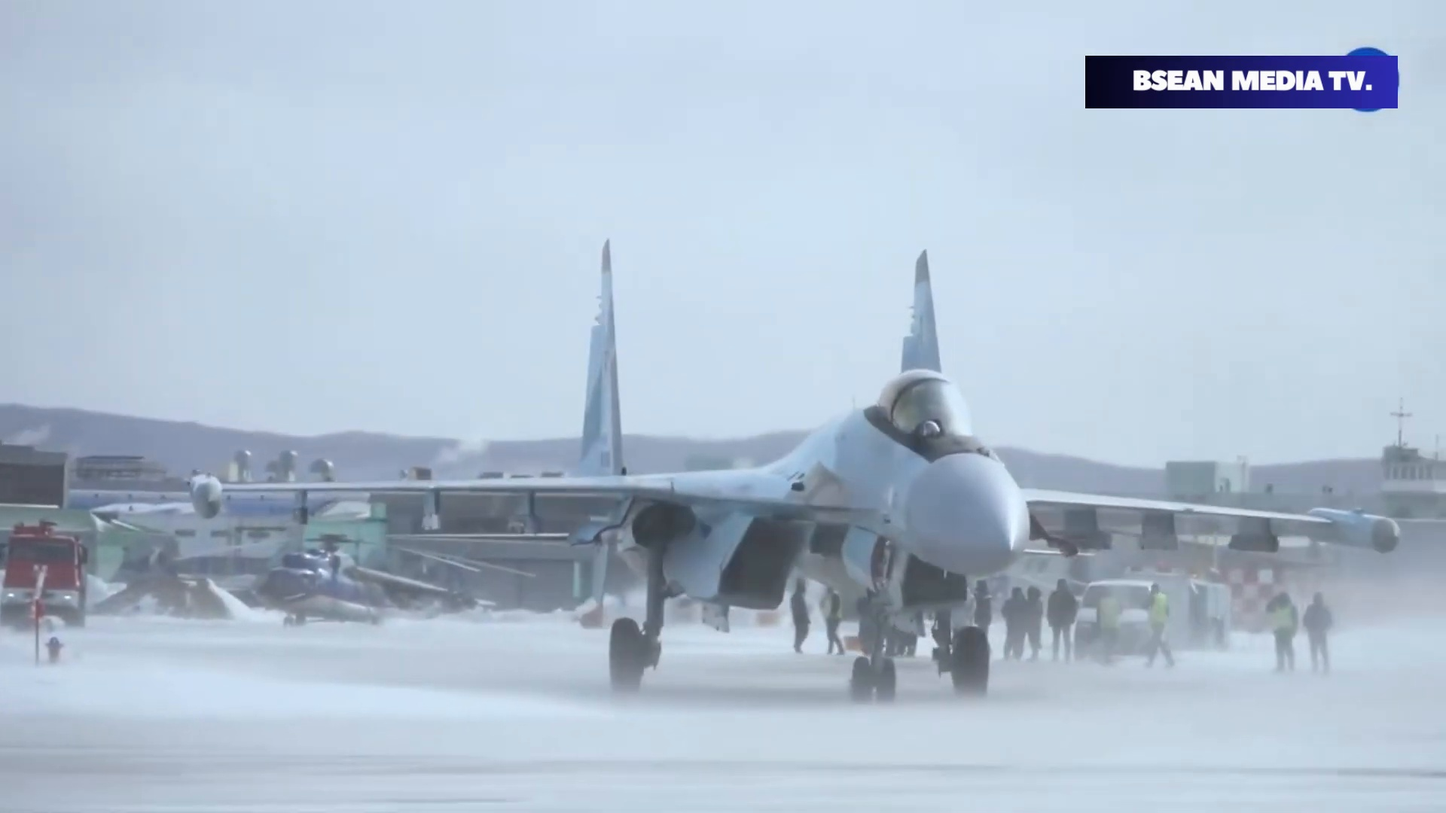Su35: (185, 239, 1400, 701)
